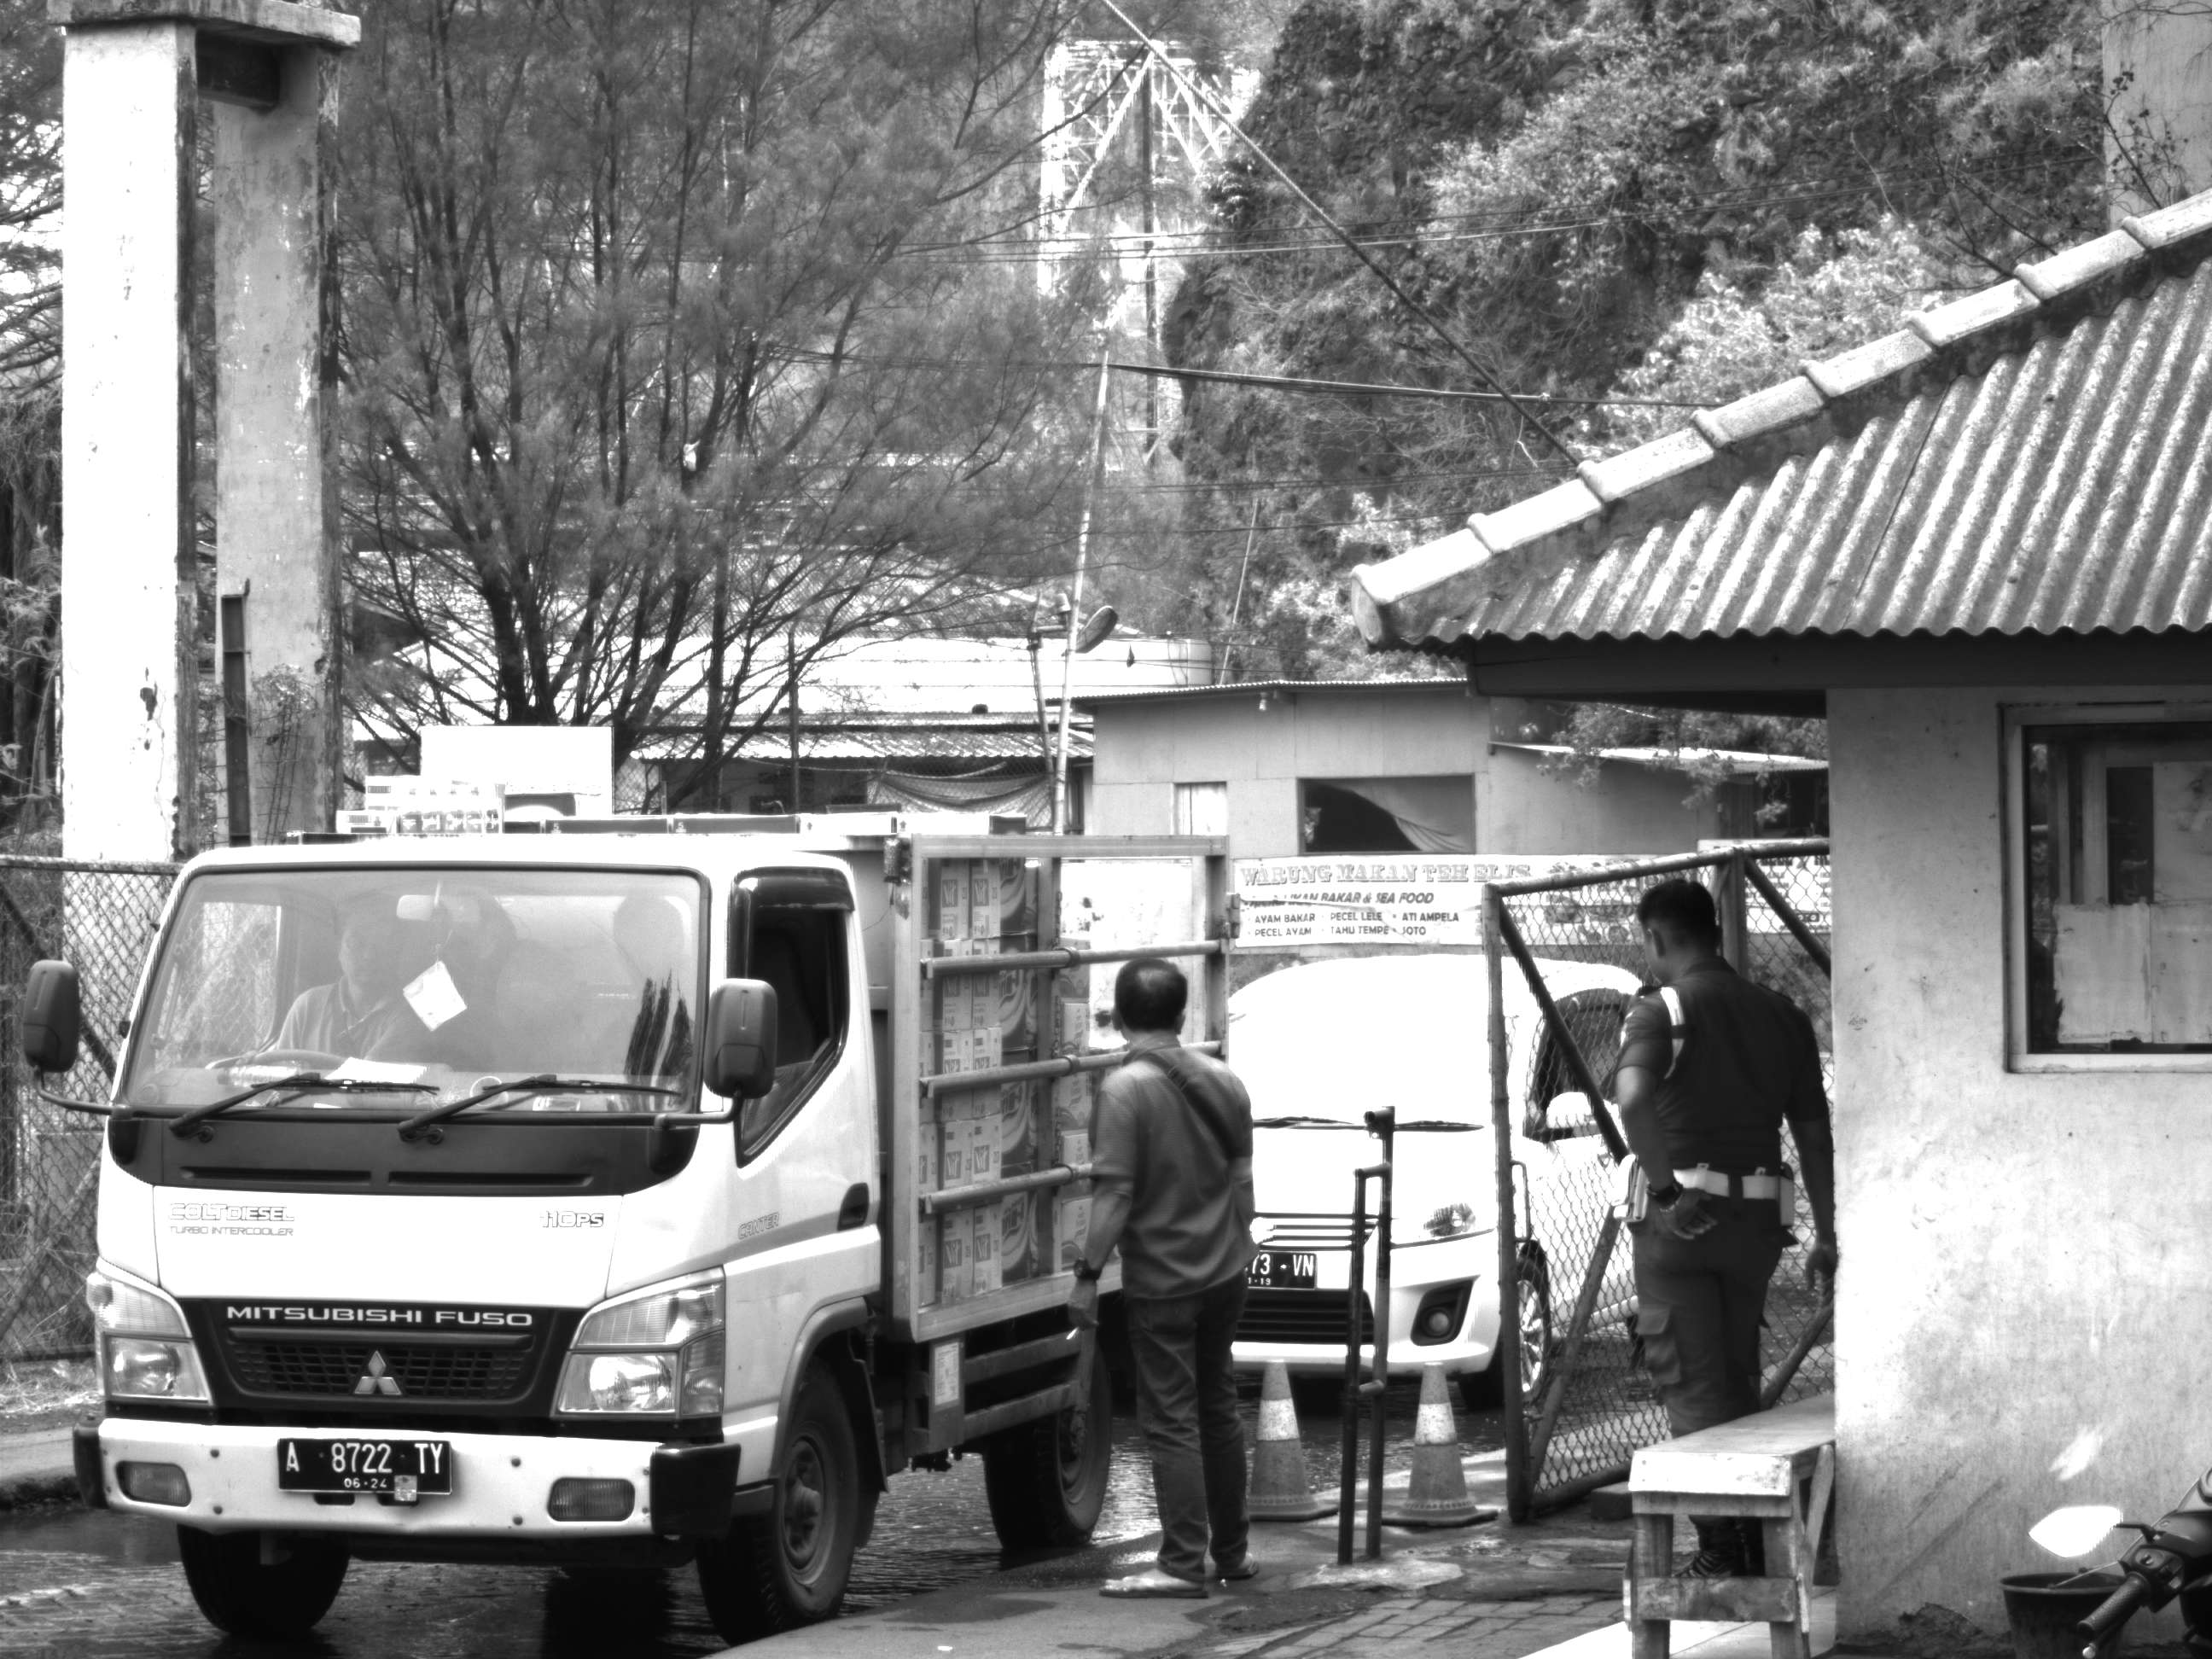day_truck_front: (73, 814, 881, 1636)
plate: (271, 1431, 461, 1503)
